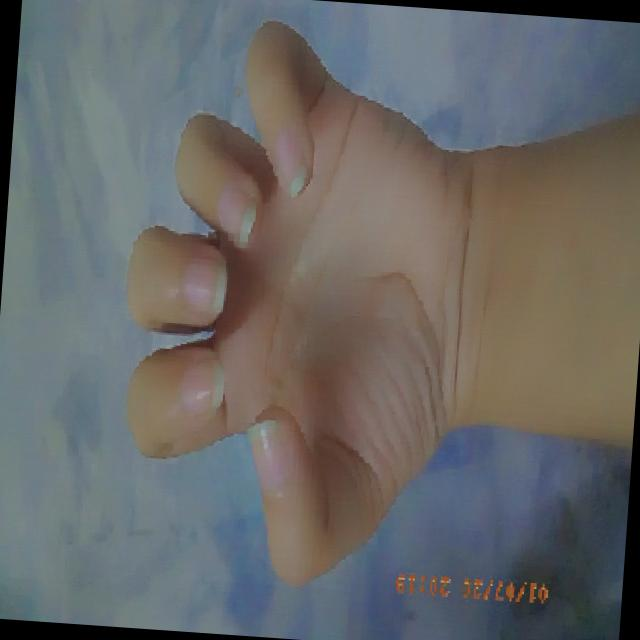Nail: (247, 418, 288, 491), (182, 256, 226, 314), (271, 129, 309, 195), (216, 183, 259, 241), (181, 361, 224, 413)
